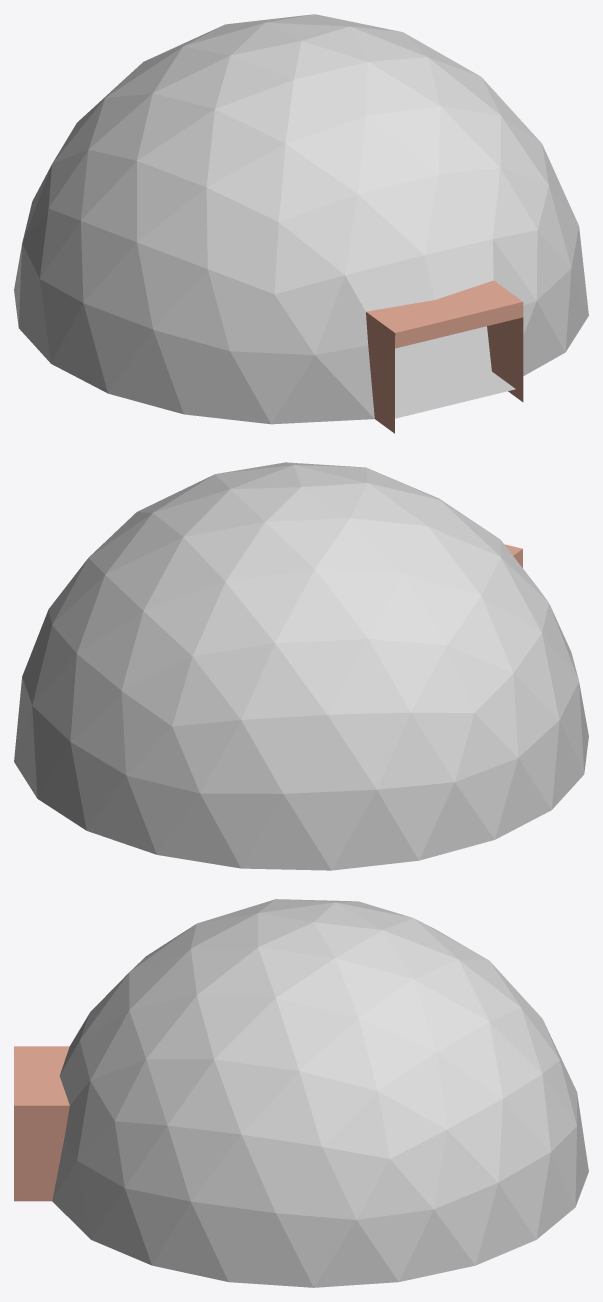
The model's file is Dome_closed.fbx.
The picture shows the model from 3 angles, top to bottom: view 1: azimuth 30°, elevation 25°; view 2: azimuth 150°, elevation 25°; view 3: azimuth 270°, elevation 25°; orthographic projection. The views are drawn at different scales.
Visible parts, largest first — view 1: Icosphere; view 2: Icosphere; view 3: Icosphere.
Boxes of the visible parts, x1,y1,x2,y2 form: Icosphere: (14,14,588,433); Icosphere: (14,462,588,870); Icosphere: (14,899,588,1287).
Bounding box in the file's own units: 3200 × 1600 × 3344.
